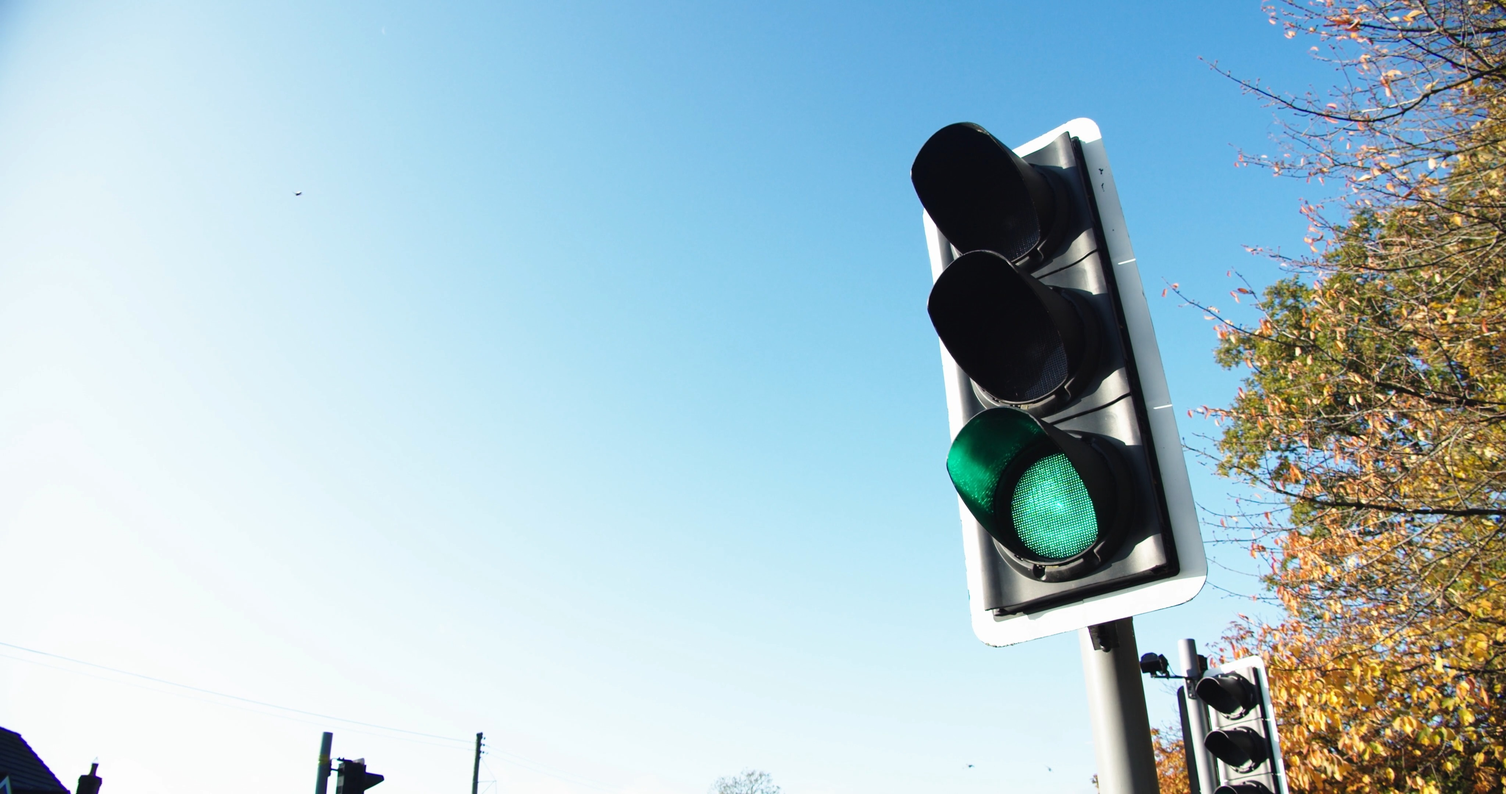green traffic light: (872, 74, 1242, 652)
